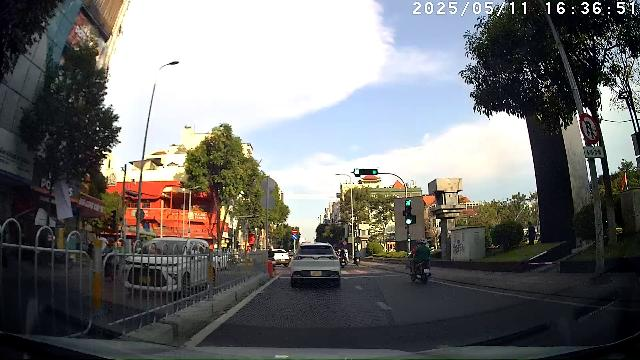124b-cam-oto-quay-dau-xe: (579, 114, 599, 144)
